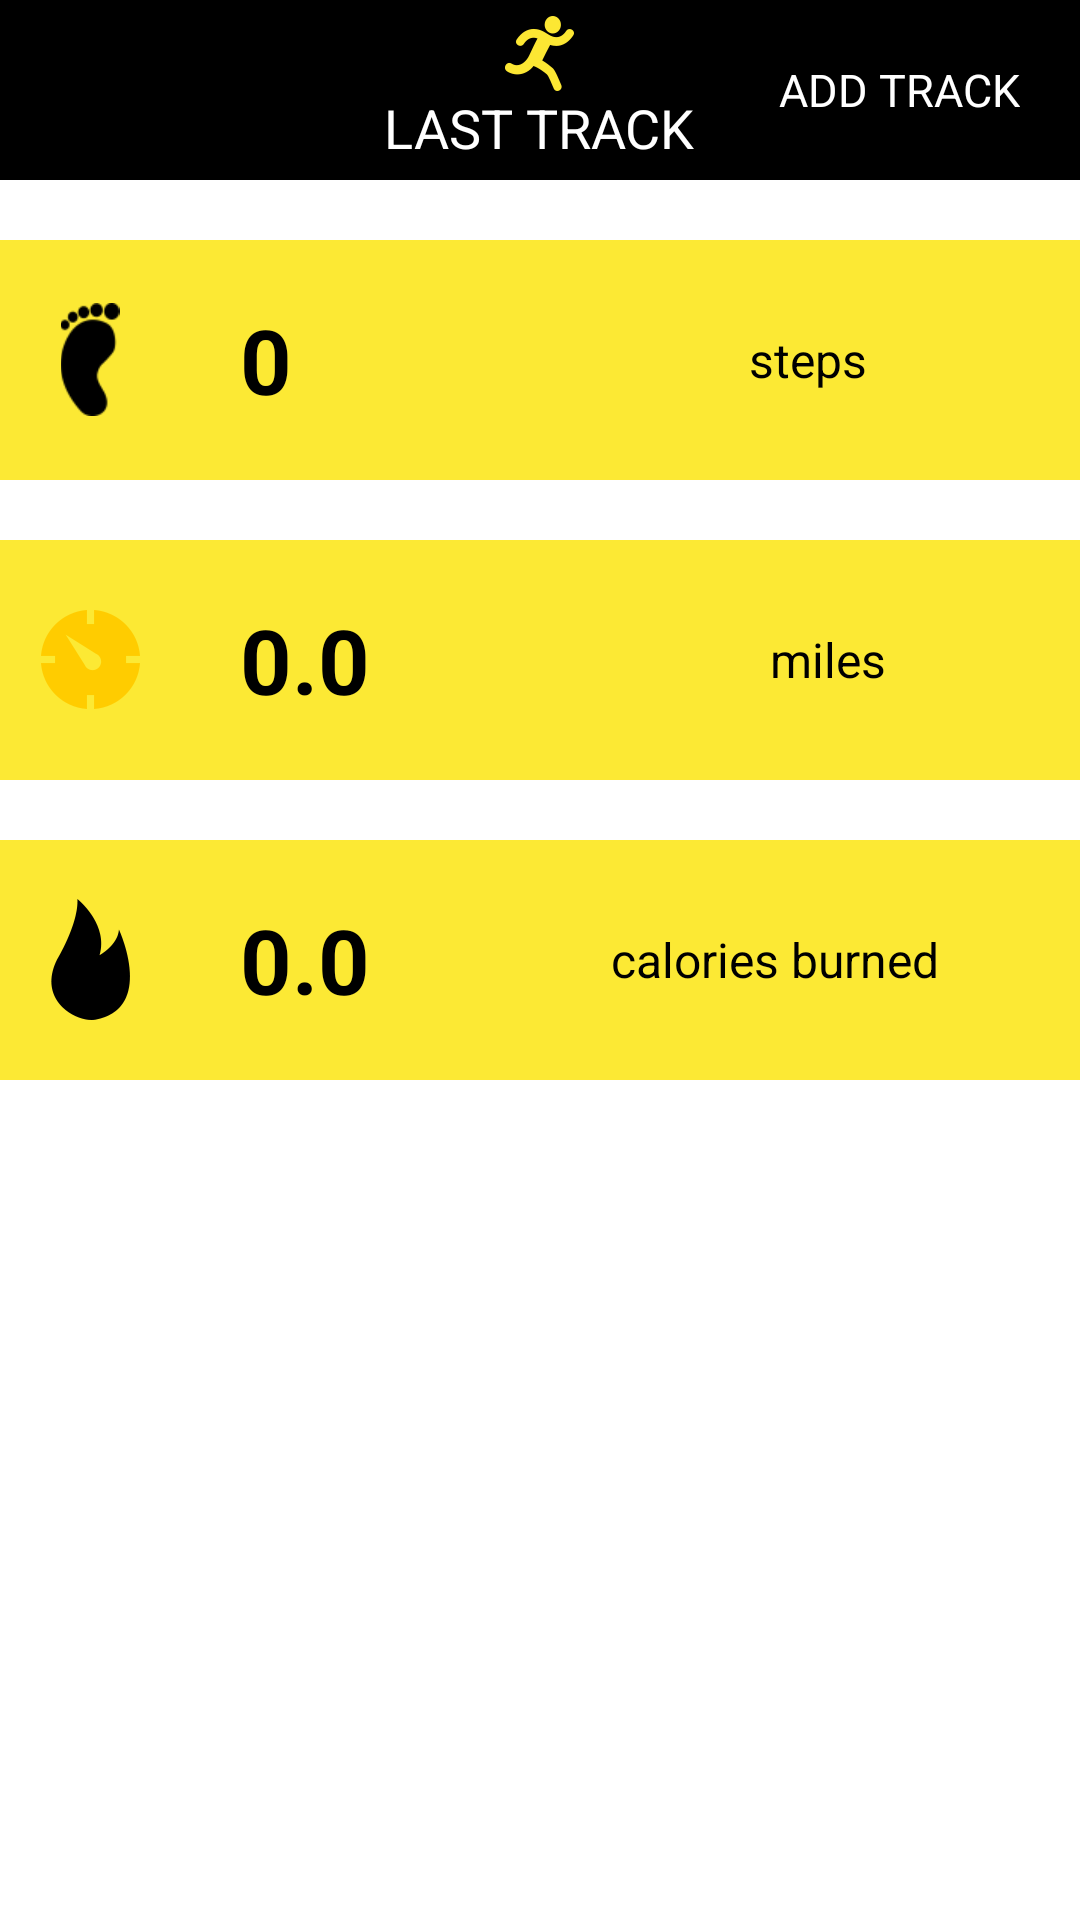

Icon click points for this 1080px x 1920px phone screenshot, format (x=x, y=y):
item burn: (x=90, y=959)
item distance: (x=90, y=659)
item steps: (x=90, y=359)
